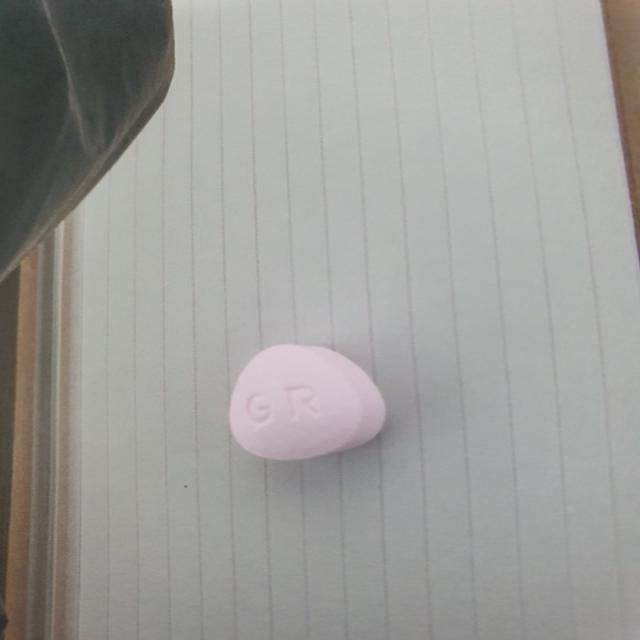pill: (220, 326, 398, 468)
